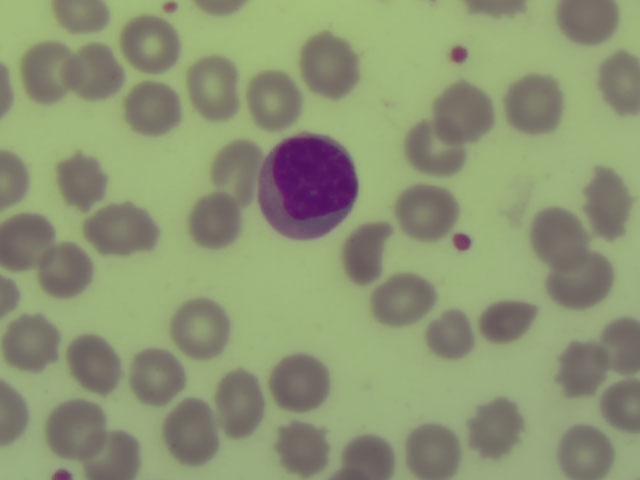Platelets: (445, 41, 473, 67), (450, 232, 476, 255), (158, 1, 183, 19), (49, 465, 76, 480)
RBC: (586, 159, 633, 242), (89, 203, 161, 256), (184, 52, 238, 119), (211, 135, 260, 208), (337, 429, 400, 480), (375, 273, 432, 328), (339, 228, 396, 283), (424, 309, 481, 364), (482, 294, 539, 349), (554, 340, 611, 395), (555, 425, 612, 480), (466, 402, 523, 457), (403, 425, 460, 480), (272, 419, 329, 474), (272, 356, 329, 411), (210, 378, 267, 433), (161, 405, 218, 460), (172, 300, 229, 355), (126, 348, 183, 403), (86, 425, 143, 480), (48, 399, 105, 454), (64, 335, 121, 390), (1, 314, 58, 369), (551, 253, 608, 308), (399, 183, 456, 238), (531, 210, 588, 265), (509, 78, 566, 133), (405, 120, 462, 175), (434, 83, 491, 138), (190, 194, 247, 249), (33, 243, 90, 298), (53, 154, 110, 209), (302, 35, 359, 90), (247, 71, 304, 126), (123, 81, 180, 136), (121, 17, 178, 72), (62, 44, 119, 99), (19, 45, 76, 100), (1, 214, 57, 269), (554, 1, 623, 43), (599, 45, 640, 113), (600, 316, 640, 378), (49, 1, 116, 38), (1, 377, 32, 451), (1, 145, 32, 214), (601, 378, 640, 432)
WBC: (260, 132, 359, 240)
